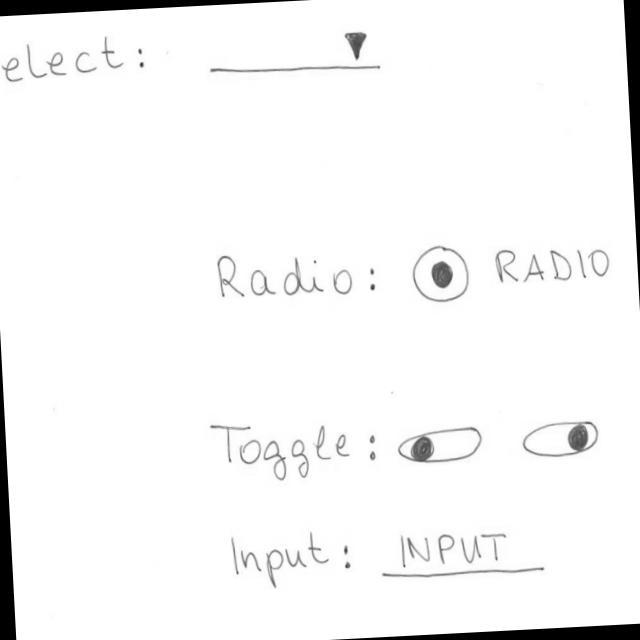input: (376, 520, 546, 583)
radio: (408, 230, 612, 306)
select: (204, 26, 384, 84)
toggle: (394, 420, 486, 468), (518, 414, 604, 462)
